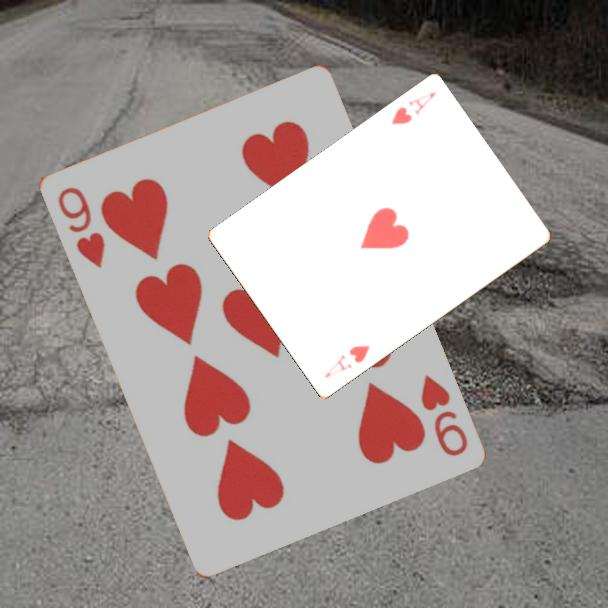h01: (387, 88, 439, 128), (320, 342, 373, 381)
h09: (53, 183, 108, 271), (416, 370, 470, 459)
